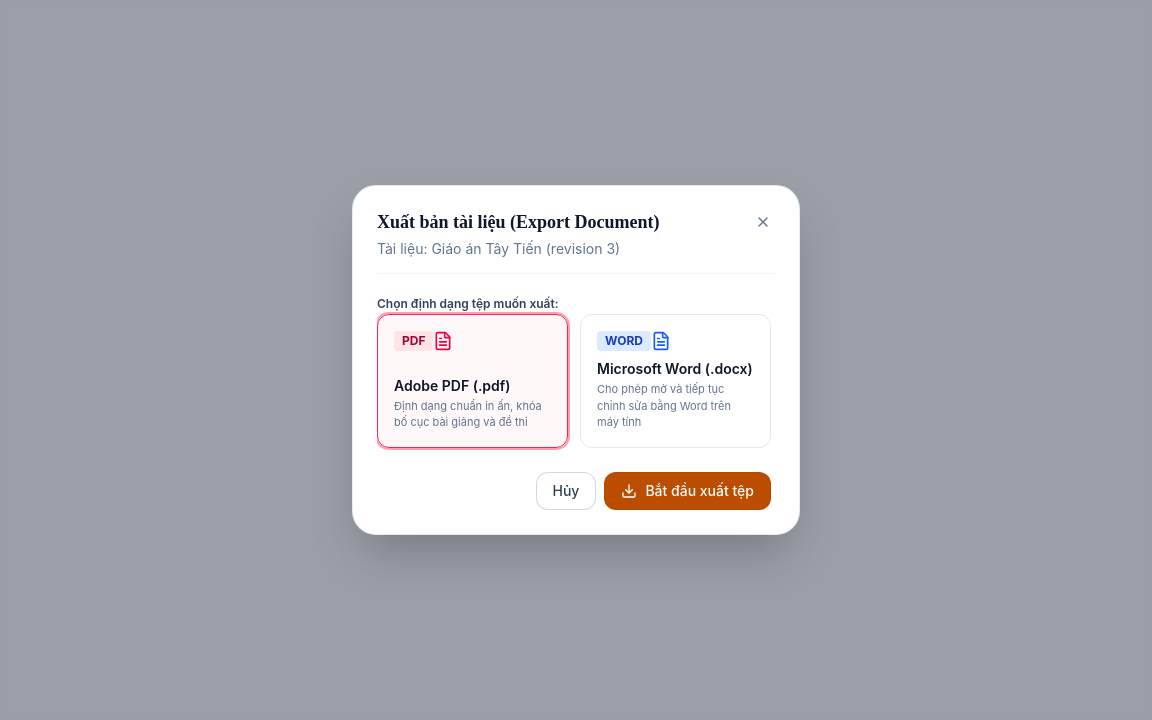
Test case: ExportModal › handles synchronous export response (status COMPLETED)
Click the button "Bắt đầu xuất tệp" at (688, 491), box x1=604 y1=472 x2=771 y2=510
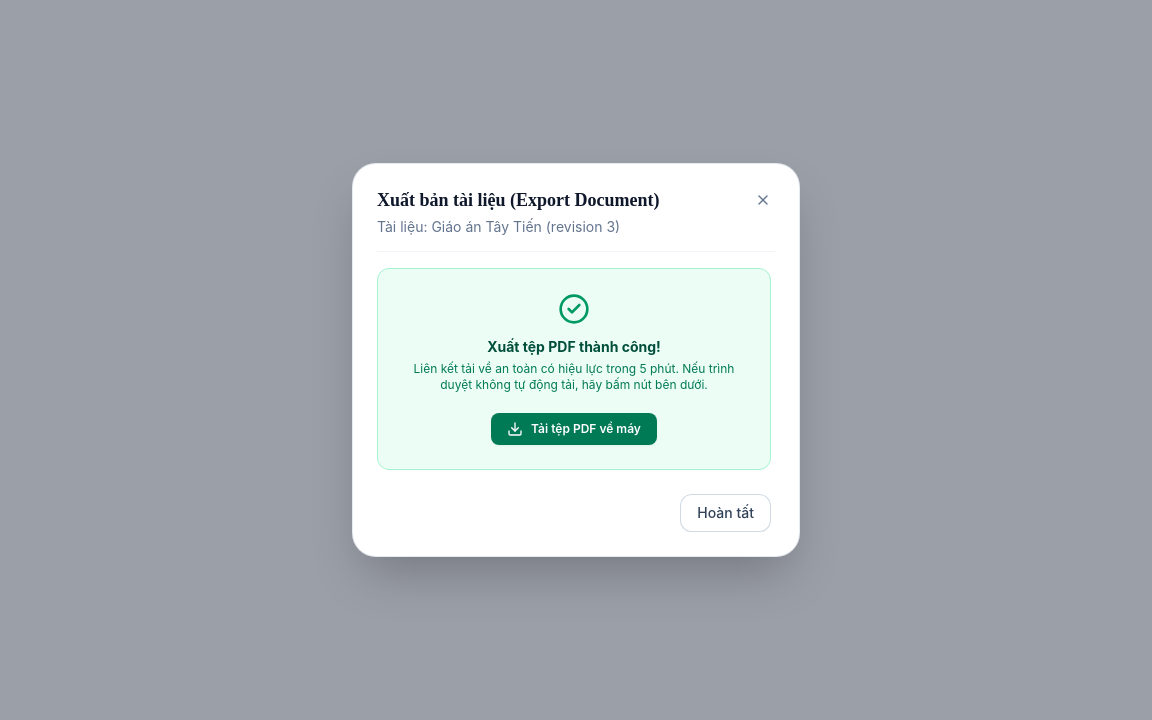
Now the text "Xuất tệp PDF thành công!" is shown, box x1=487 y1=338 x2=661 y2=355
